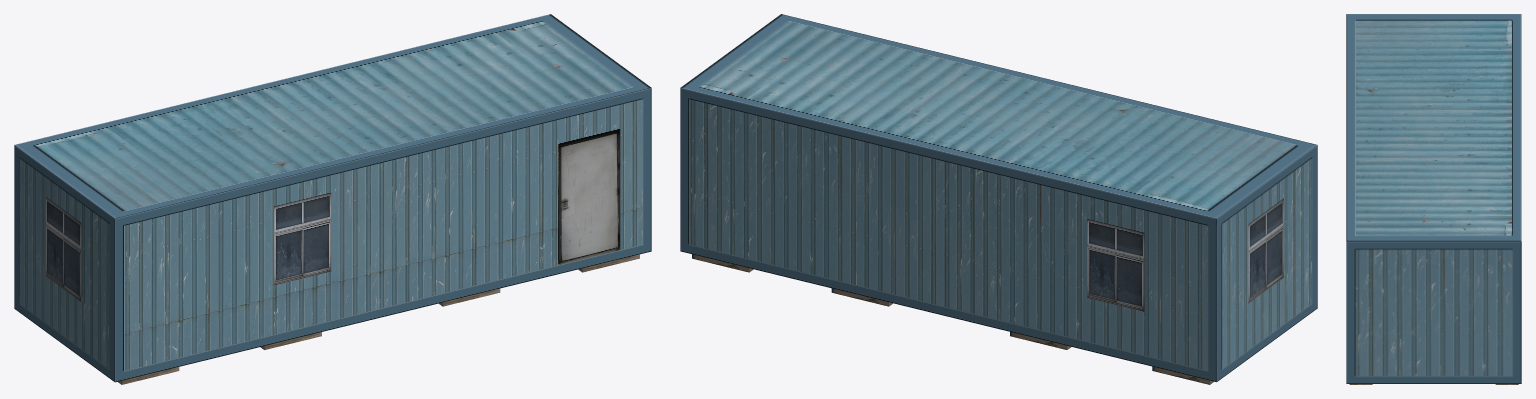
Rendered from ContainerHouse16.FBX.
3 views of the same model, side by side, from view 1: azimuth 30°, elevation 25°; view 2: azimuth 150°, elevation 25°; view 3: azimuth 270°, elevation 25° (orthographic). The views are drawn at different scales.
Parts seen in each view (by area): view 1: ContainerHouse16, ContainerHouse16wood; view 2: ContainerHouse16, ContainerHouse16wood; view 3: ContainerHouse16.
Part boxes in pixels (x1=…): ContainerHouse16: x1=14, y1=14, x2=651, y2=382; ContainerHouse16wood: x1=118, y1=254, x2=639, y2=384; ContainerHouse16: x1=680, y1=14, x2=1317, y2=382; ContainerHouse16wood: x1=692, y1=254, x2=1213, y2=384; ContainerHouse16: x1=1346, y1=14, x2=1521, y2=383.
Size of the model in its own units: 363 by 110 by 118.
